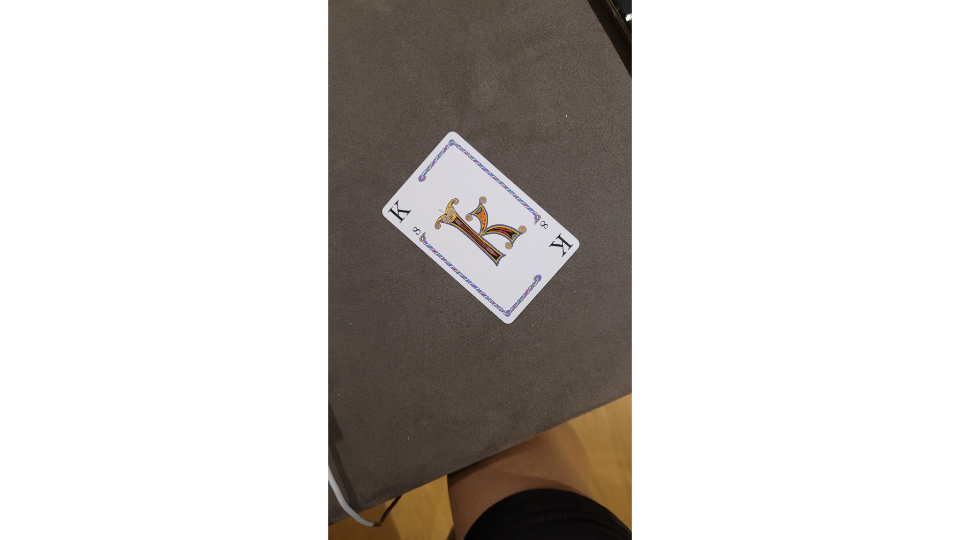K: (380, 129, 582, 327)
